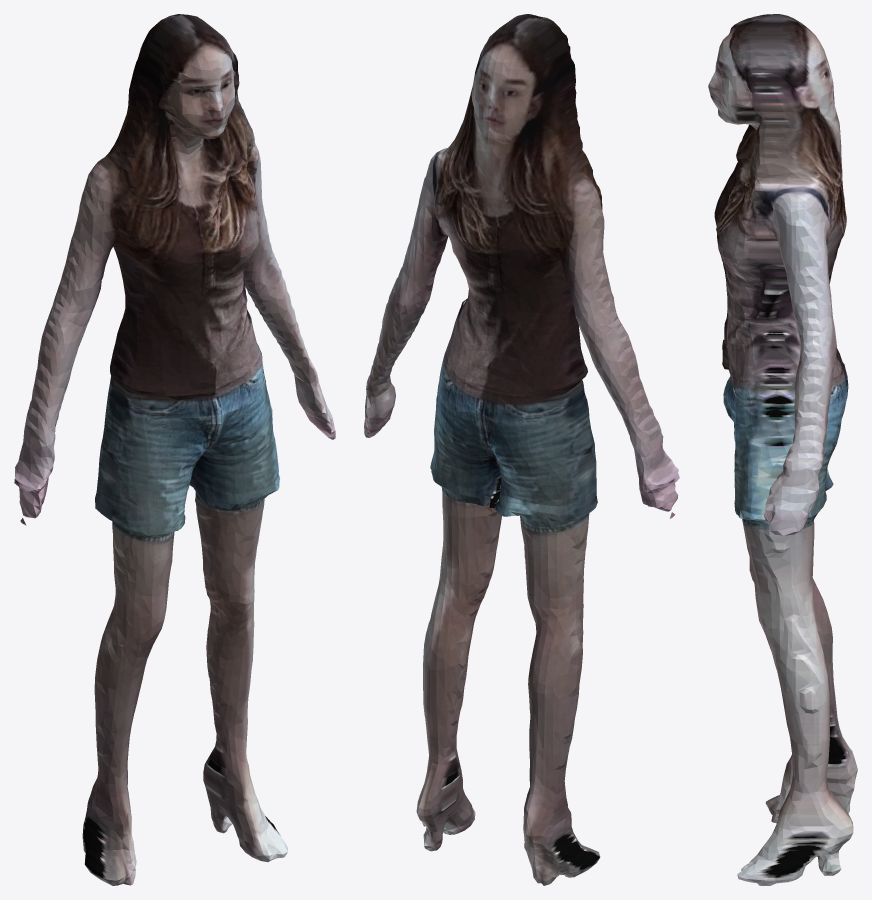
File: kate.glb
3 renders of one model, left to right at view 1: azimuth 30°, elevation 25°; view 2: azimuth 150°, elevation 25°; view 3: azimuth 270°, elevation 25°, orthographic. The views are drawn at different scales.
Parts seen in each view (by area): view 1: LowPoly; view 2: LowPoly; view 3: LowPoly.
Boxes of the visible parts, box(x1,y1,x2,y2) form: LowPoly: box(14, 14, 335, 885); LowPoly: box(364, 14, 679, 885); LowPoly: box(708, 14, 857, 885).
Size of the model in its own units: 0.6938 by 1.81 by 0.2958.
Materials: 1 (1 with a texture image).
